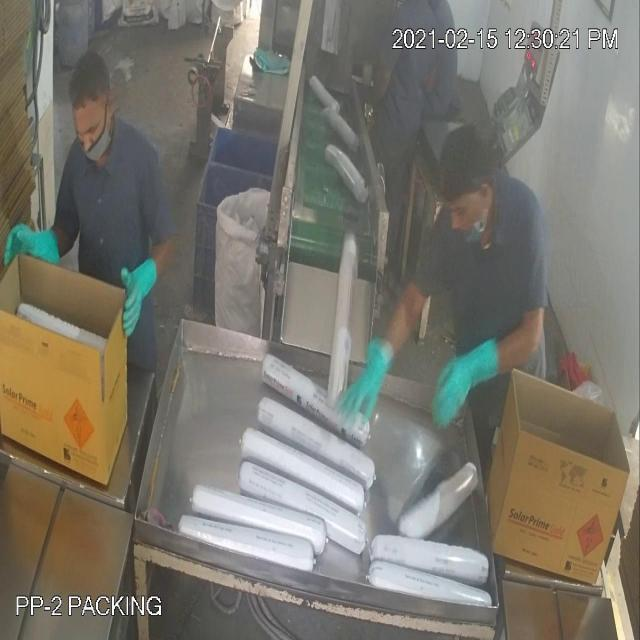Gloves: (35, 84, 467, 386)
